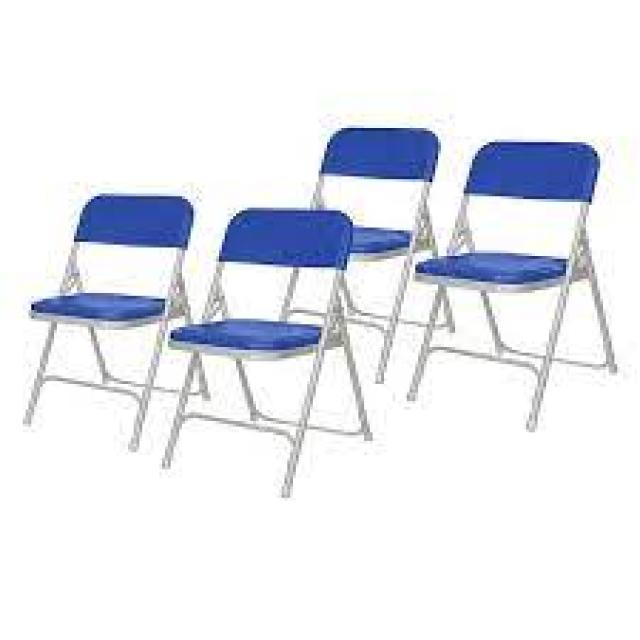chair: (152, 137, 406, 510), (402, 99, 616, 442), (1, 159, 209, 481), (299, 100, 454, 390)
